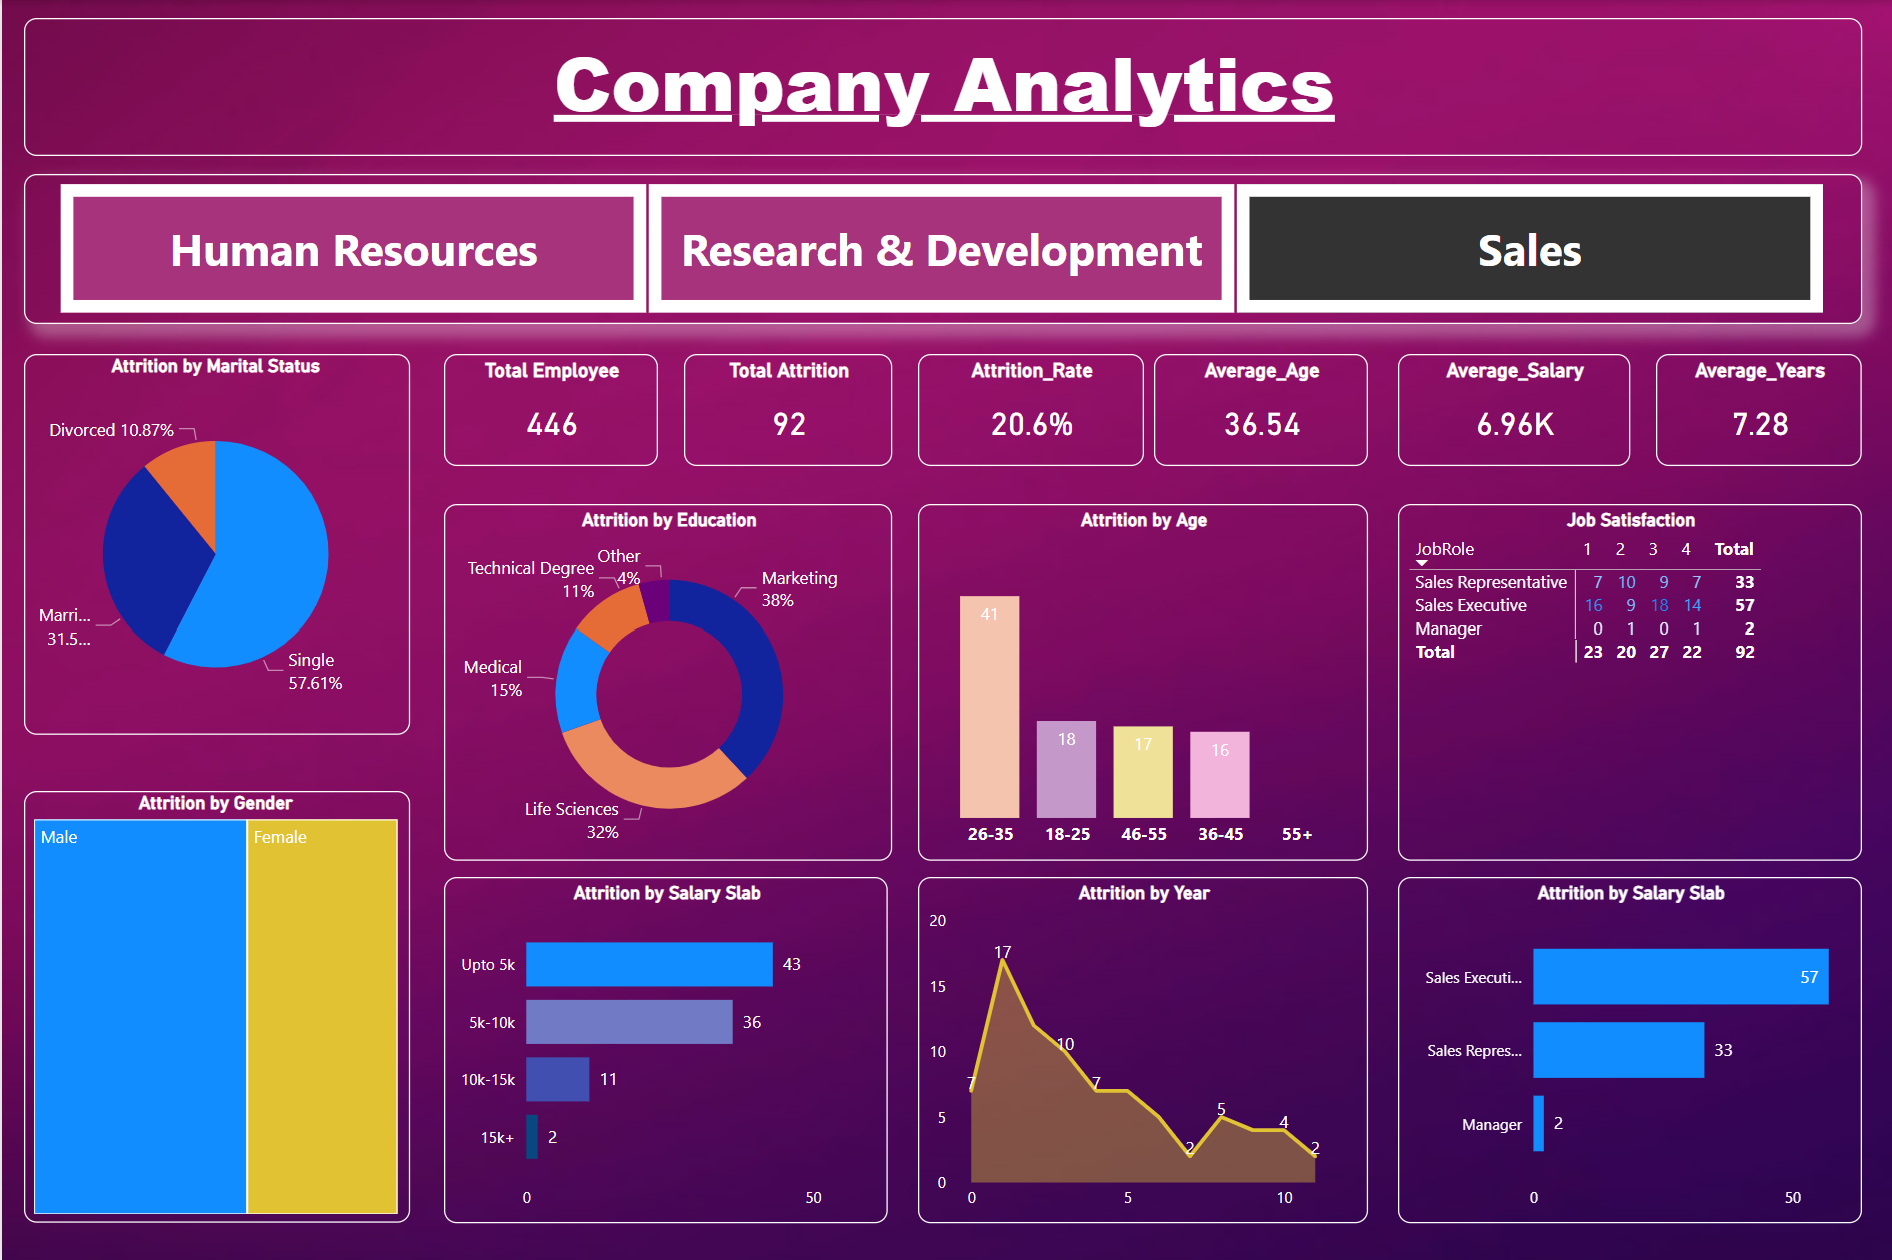

What the dashboard file says about the page in this screenshot:
{"tool":"powerbi","page":{"name":"company Analytics","canvas":[1500,1000],"ordinal":0},"visuals":[{"type":"card","title":"Total Employee","fields":{"Values":["Count(HR_Analytics.EmpID)"]},"box":[349.1,279.6,169,88.5],"z":0},{"type":"card","title":"Attrition_Rate","fields":{"Values":["HR_Analytics.AttritionRate"]},"box":[723.5,279.6,178.5,88.5],"z":1000},{"type":"card","title":"Total Attrition","fields":{"Values":["Sum(HR_Analytics.AttritionCount)"]},"box":[538.7,279.6,164.3,88.5],"z":2000},{"type":"card","title":"Average_Age","fields":{"Values":["Avg(HR_Analytics.Age)"]},"box":[910,279.6,169,88.5],"z":3000},{"type":"card","title":"Average_Salary","fields":{"Values":["Avg(HR_Analytics.MonthlyIncome)"]},"box":[1102.7,279.6,183.3,88.5],"z":4000},{"type":"card","title":"Average_Years","fields":{"Values":["Avg(HR_Analytics.YearsAtCompany)"]},"box":[1306.5,279.6,162.7,88.5],"z":5000},{"type":"donutChart","title":"Attrition by Education","fields":{"Category":["HR_Analytics.EducationField"],"Y":["Sum(HR_Analytics.AttritionCount)"]},"box":[349.1,398.1,353.9,281.2],"z":6000},{"type":"columnChart","title":"Attrition by Age","fields":{"Category":["HR_Analytics.AgeGroup"],"Y":["Sum(HR_Analytics.AttritionCount)"]},"box":[723.5,398.1,355.5,281.2],"z":7000},{"type":"pivotTable","title":"Job Satisfaction","fields":{"Rows":["HR_Analytics.JobRole"],"Columns":["HR_Analytics.JobSatisfaction"],"Values":["Sum(HR_Analytics.AttritionCount)"]},"box":[1102.7,398.1,366.5,281.2],"z":8000},{"type":"barChart","title":"Attrition by Salary Slab","fields":{"Y":["Sum(HR_Analytics.AttritionCount)"],"Category":["HR_Analytics.SalarySlab"]},"box":[349.1,691.9,350.7,273.3],"z":9000},{"type":"areaChart","title":"Attrition by Year","fields":{"Category":["HR_Analytics.YearsAtCompany"],"Y":["Sum(HR_Analytics.AttritionCount)"]},"box":[723.5,691.9,355.5,273.3],"z":10000},{"type":"barChart","title":"Attrition by Salary Slab","fields":{"Y":["Sum(HR_Analytics.AttritionCount)"],"Category":["HR_Analytics.JobRole"]},"box":[1102.7,691.9,366.5,273.3],"z":11000},{"type":"textbox","box":[17.4,14.2,1451.8,109],"z":12000},{"type":"treemap","title":"Attrition by Gender","fields":{"Group":["HR_Analytics.Gender"],"Values":["Sum(HR_Analytics.AttritionCount)"]},"box":[17.4,624,304.9,341.2],"z":13000},{"type":"pieChart","title":"Attrition by Marital Status","fields":{"Category":["HR_Analytics.MaritalStatus"],"Y":["Sum(HR_Analytics.AttritionCount)"]},"box":[17.4,279.6,304.9,300.2],"z":14000},{"type":"slicer","fields":{"Values":["HR_Analytics.Department"]},"box":[17.4,137.4,1451.8,118.5],"z":15000}]}

Visuals, with their boxes in screenshot pixels (x1, y1, x2, y2), scaled from the page's 1500x1000 canvas onto the 1892x1260 screenshot:
"Total Employee" card: [left=440, top=352, right=653, bottom=464]
"Attrition_Rate" card: [left=913, top=352, right=1138, bottom=464]
"Total Attrition" card: [left=679, top=352, right=887, bottom=464]
"Average_Age" card: [left=1148, top=352, right=1361, bottom=464]
"Average_Salary" card: [left=1391, top=352, right=1622, bottom=464]
"Average_Years" card: [left=1648, top=352, right=1853, bottom=464]
"Attrition by Education" donutChart: [left=440, top=502, right=887, bottom=856]
"Attrition by Age" columnChart: [left=913, top=502, right=1361, bottom=856]
"Job Satisfaction" pivotTable: [left=1391, top=502, right=1853, bottom=856]
"Attrition by Salary Slab" barChart: [left=440, top=872, right=883, bottom=1216]
"Attrition by Year" areaChart: [left=913, top=872, right=1361, bottom=1216]
"Attrition by Salary Slab" barChart: [left=1391, top=872, right=1853, bottom=1216]
textbox: [left=22, top=18, right=1853, bottom=155]
"Attrition by Gender" treemap: [left=22, top=786, right=407, bottom=1216]
"Attrition by Marital Status" pieChart: [left=22, top=352, right=407, bottom=731]
slicer - HR_Analytics.Department: [left=22, top=173, right=1853, bottom=322]
